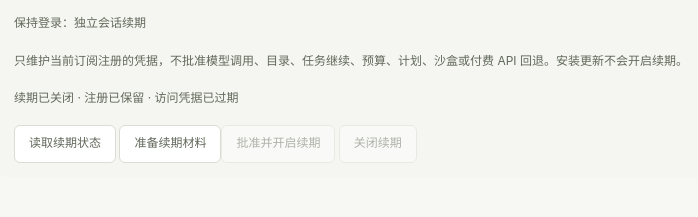
Scenario: independent session renewal › does not retry rejected or unknown POST
The image size is (698, 217).
Check: the text "续期已关闭 · 注册已保留 · 访问凭据已过期" is shown, box [14,90,238,105]
Click the button "准备续期材料" at (170, 144), box [119,125,221,163]
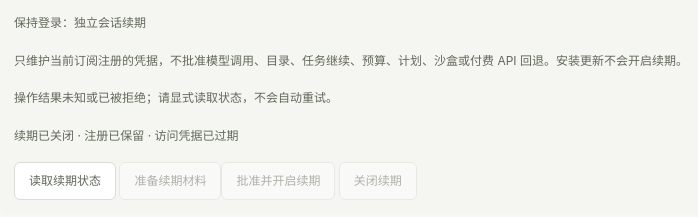
Check: the message "操作结果未知或已被拒绝；请显式读取状态，不会自动重试。" is shown, box [14,90,338,105]
Check: the button "准备续期材料" is disabled, box [119,162,221,200]
